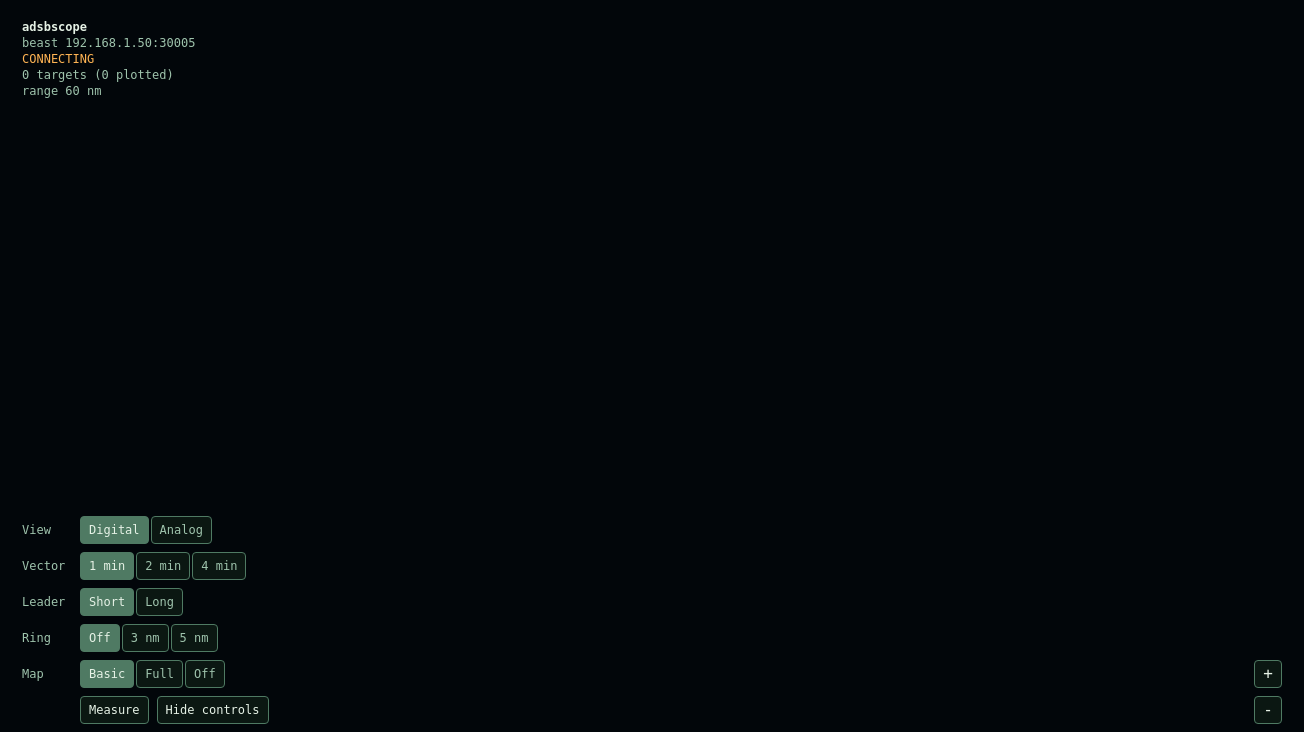
Scenario: ScopeView › hiding and showing the controls › hides the selectors from the button or the H key, and shows them again
Expected: the element named "View style" is shown, [22,516,212,544]
Click the button "Hide controls". click: [213, 710]
box: [157,696,268,724]
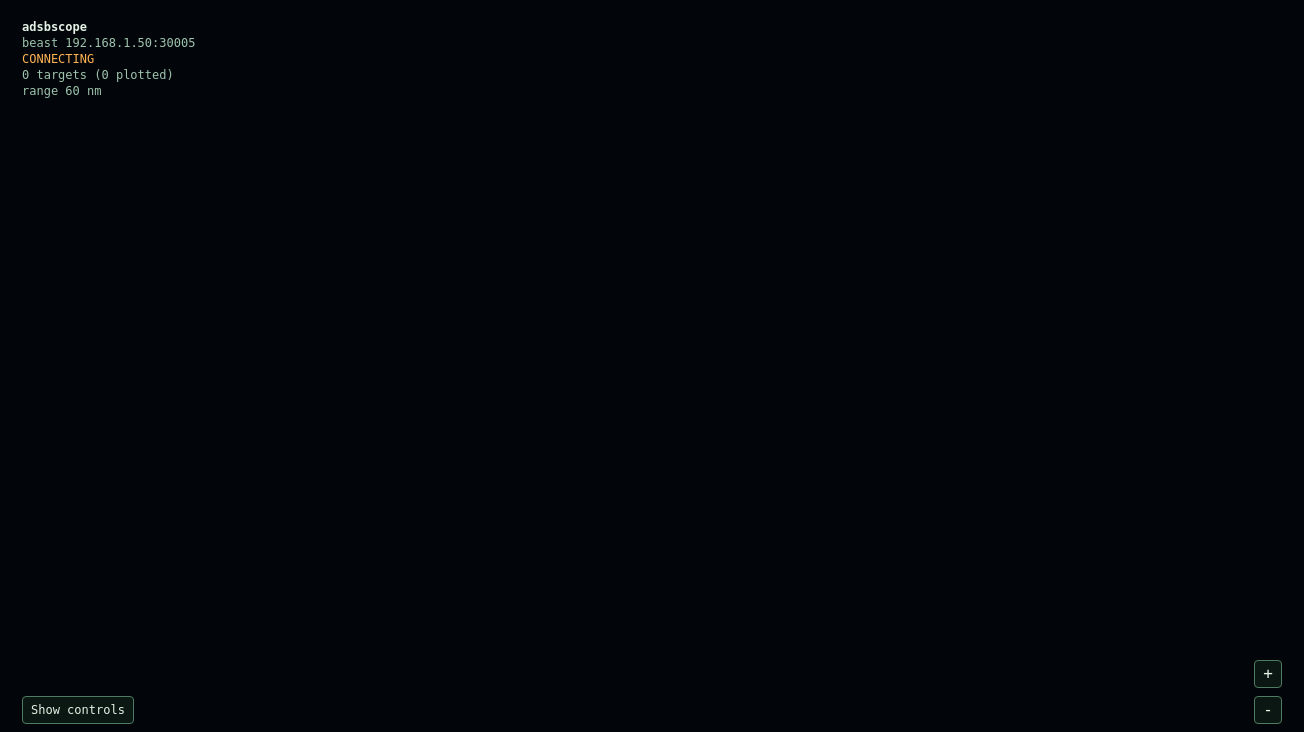
Expected: the button named "Zoom in" is shown, [1254,660,1282,688]
Press h
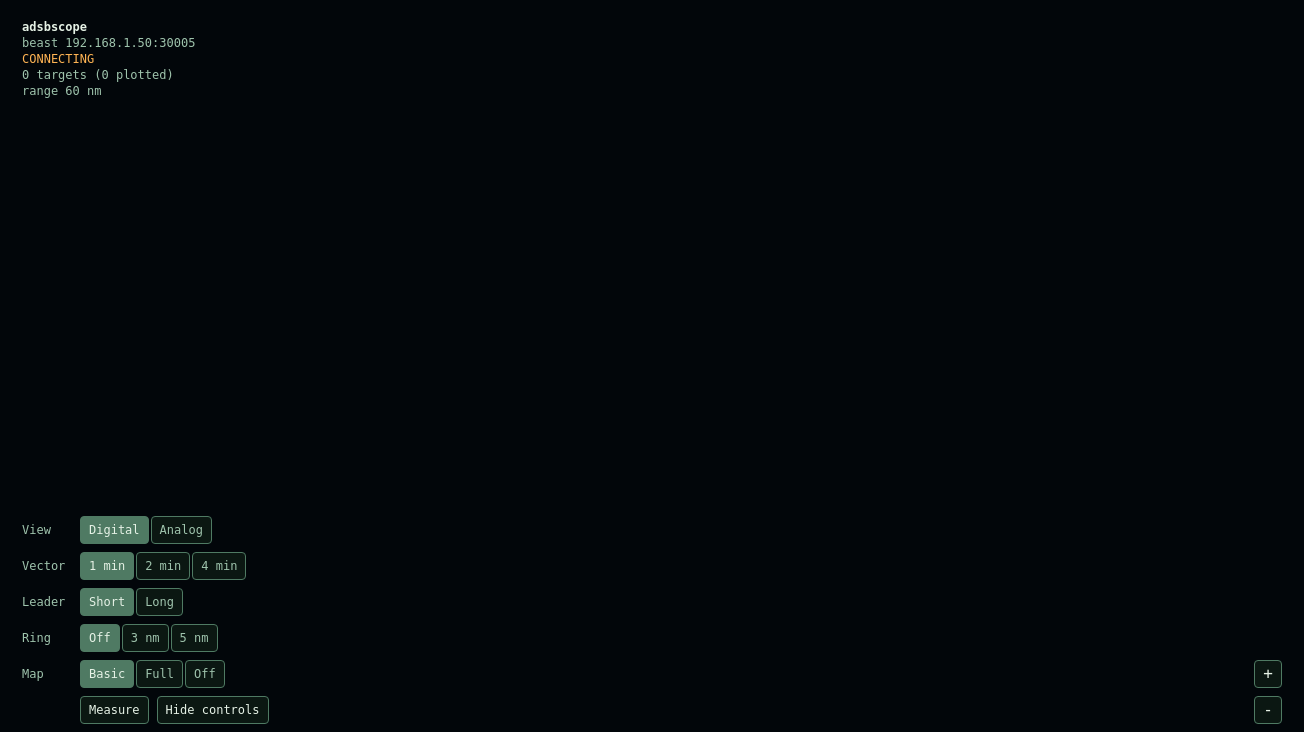
Expected: the element named "View style" is shown, [22,516,212,544]
Press h
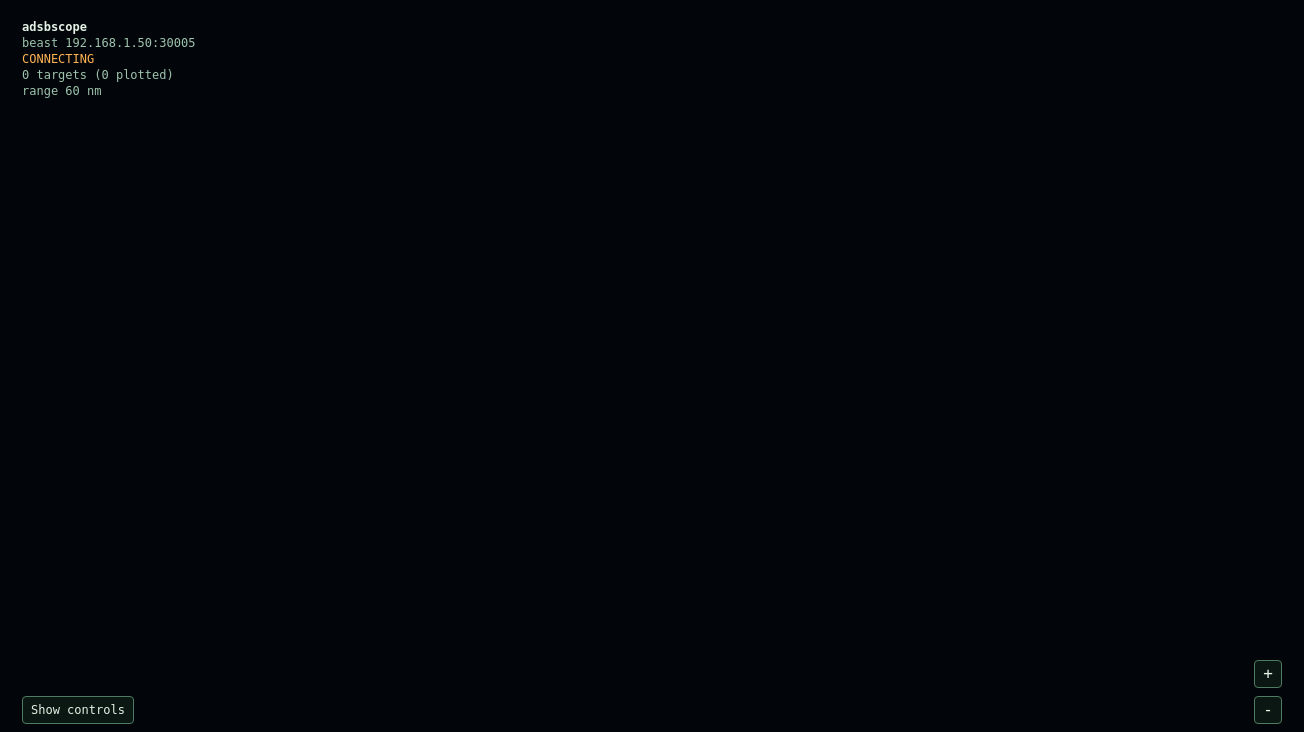
Expected: the button "Show controls" is shown, [22,696,134,724]
